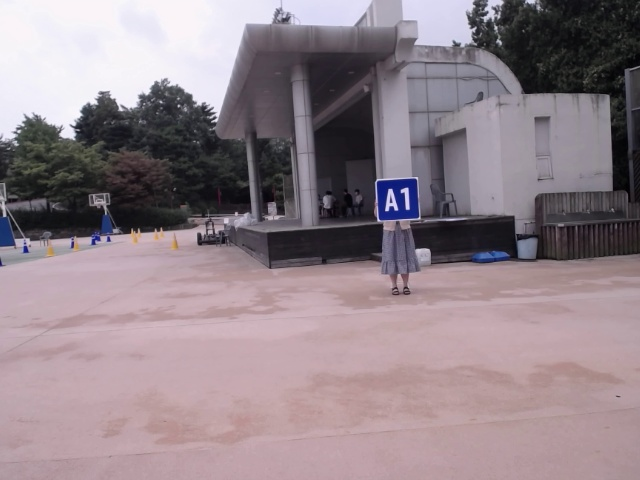delivery_a1: (376, 178, 421, 221)
